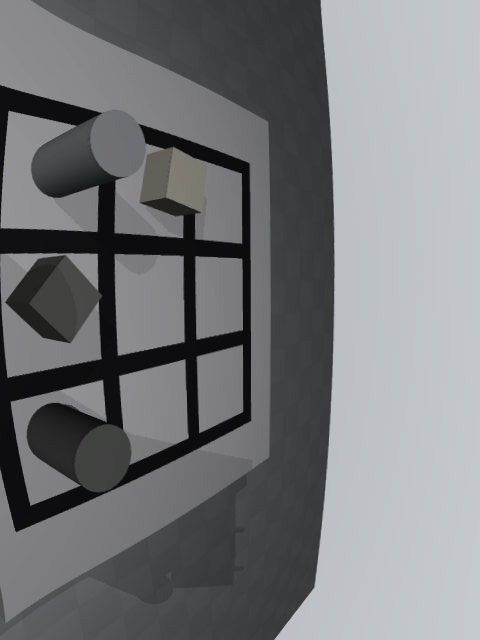can: (31, 109, 146, 198)
cube: (5, 255, 102, 343)
cylinder: (27, 403, 132, 493)
foam: (140, 147, 208, 217)
